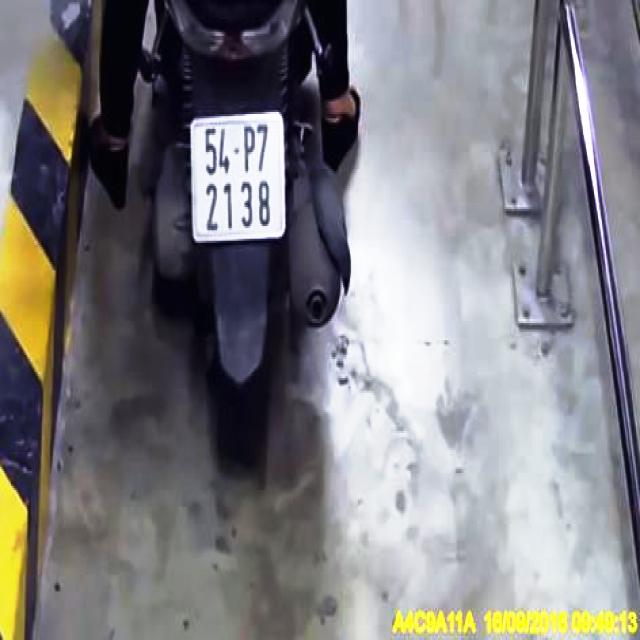license_plate: (192, 118, 287, 237)
